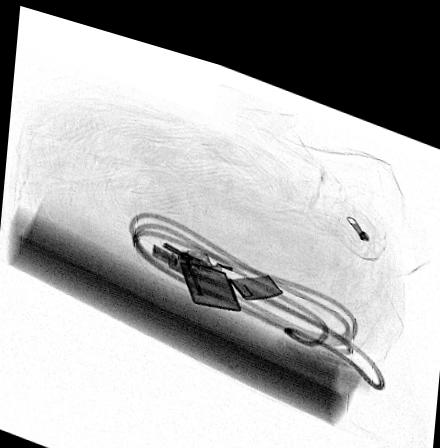Lighter: (177, 237, 283, 297)
